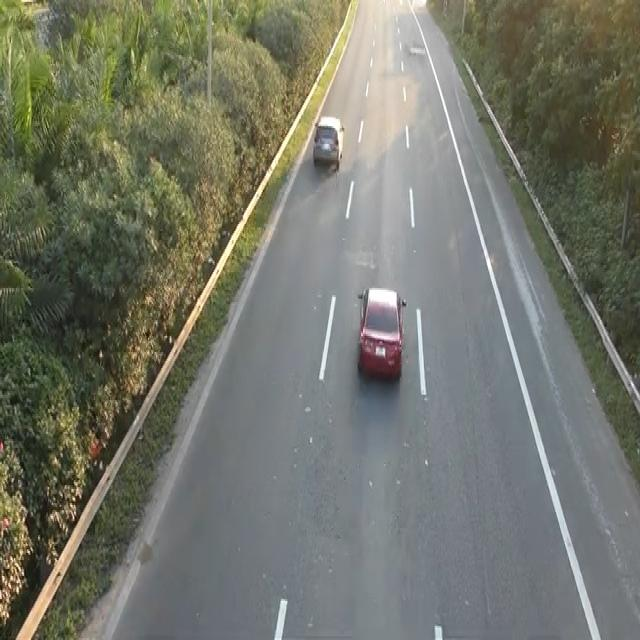bus: (355, 281, 407, 382), (311, 112, 345, 171)
